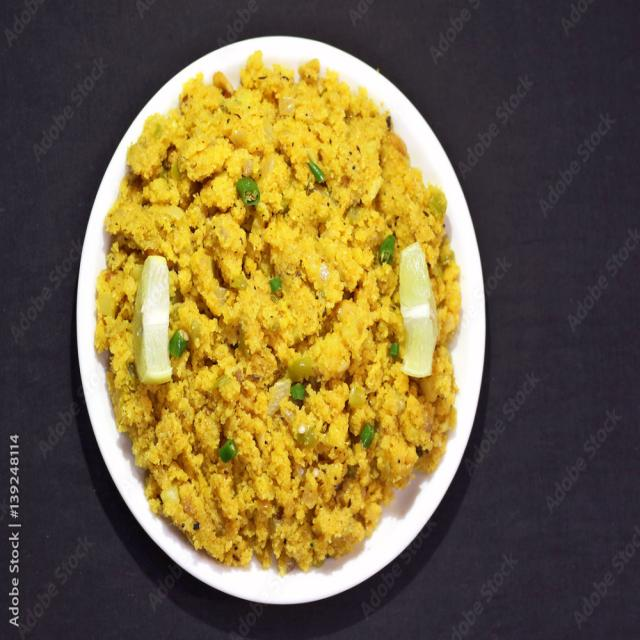UPMA: (95, 50, 463, 570)
